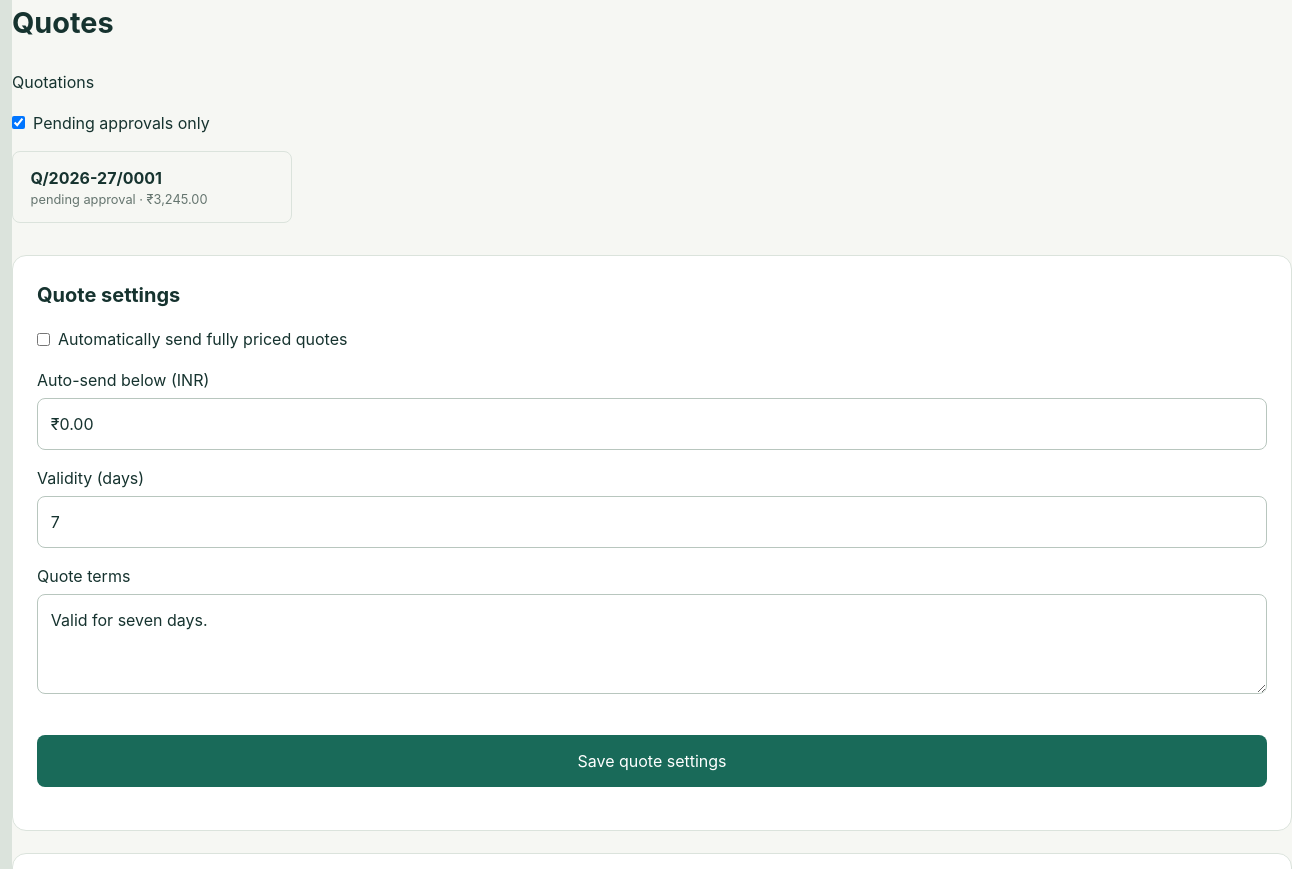
blocks approval while a line needs owner pricing
Click the button "Q/2026-27/0001 pending approval · ₹3,245.00" at (152, 187), box [12,151,292,224]
(page scrolled)
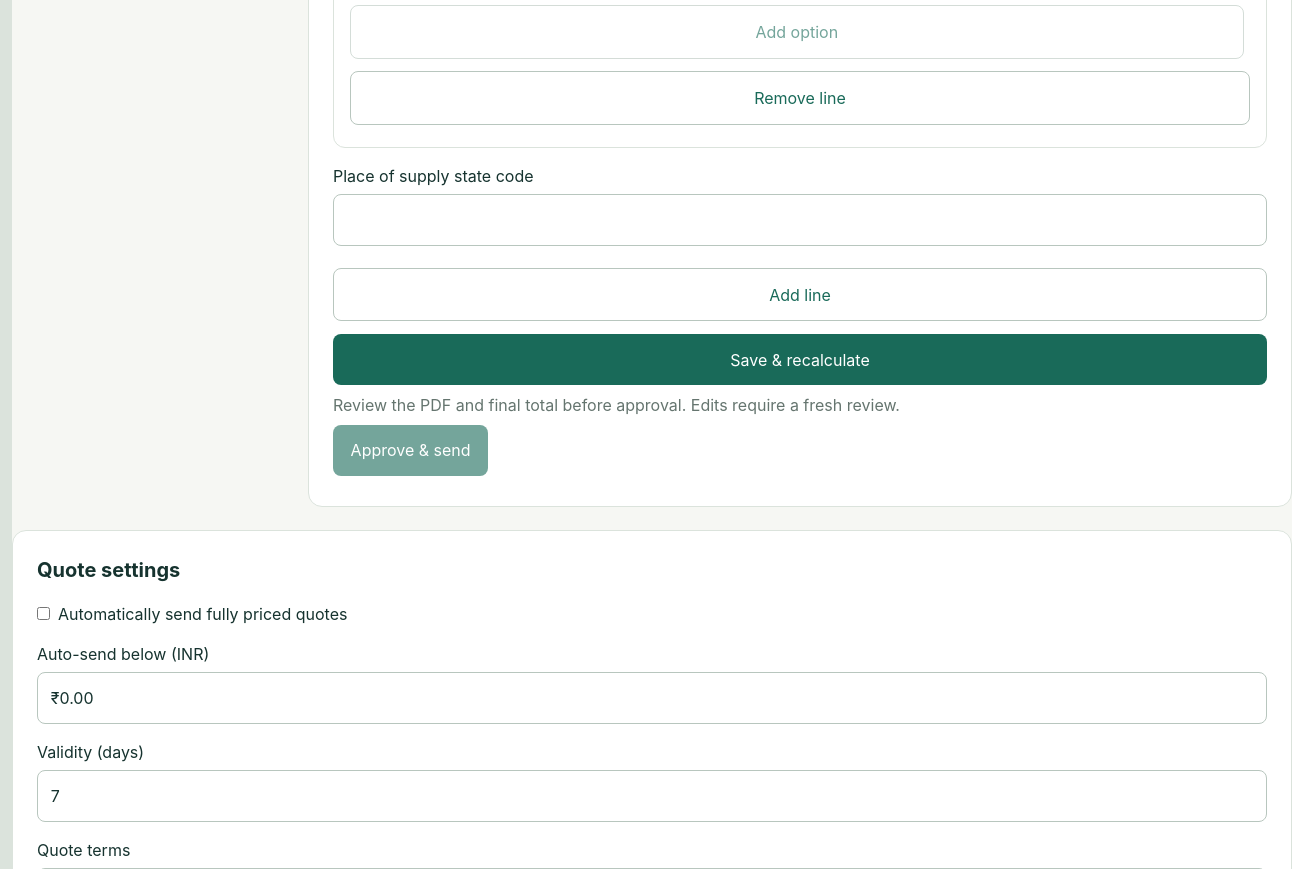
Now the button "Approve & send" is disabled, box [333,425,488,476]
